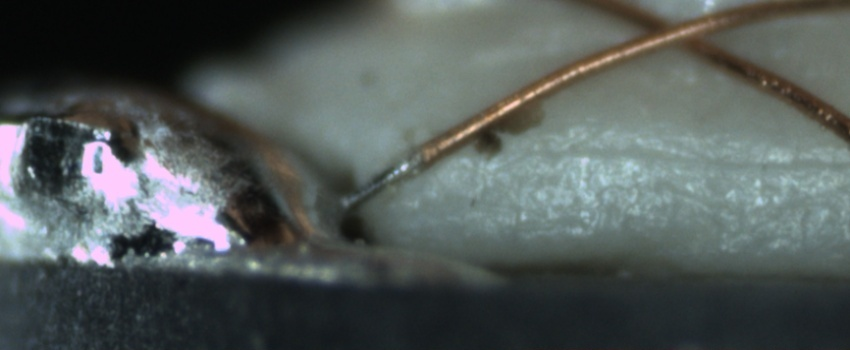CL: (607, 5, 730, 60)
DL: (456, 125, 850, 191)
TS: (342, 152, 424, 209)
TTCW: (339, 130, 452, 210)
